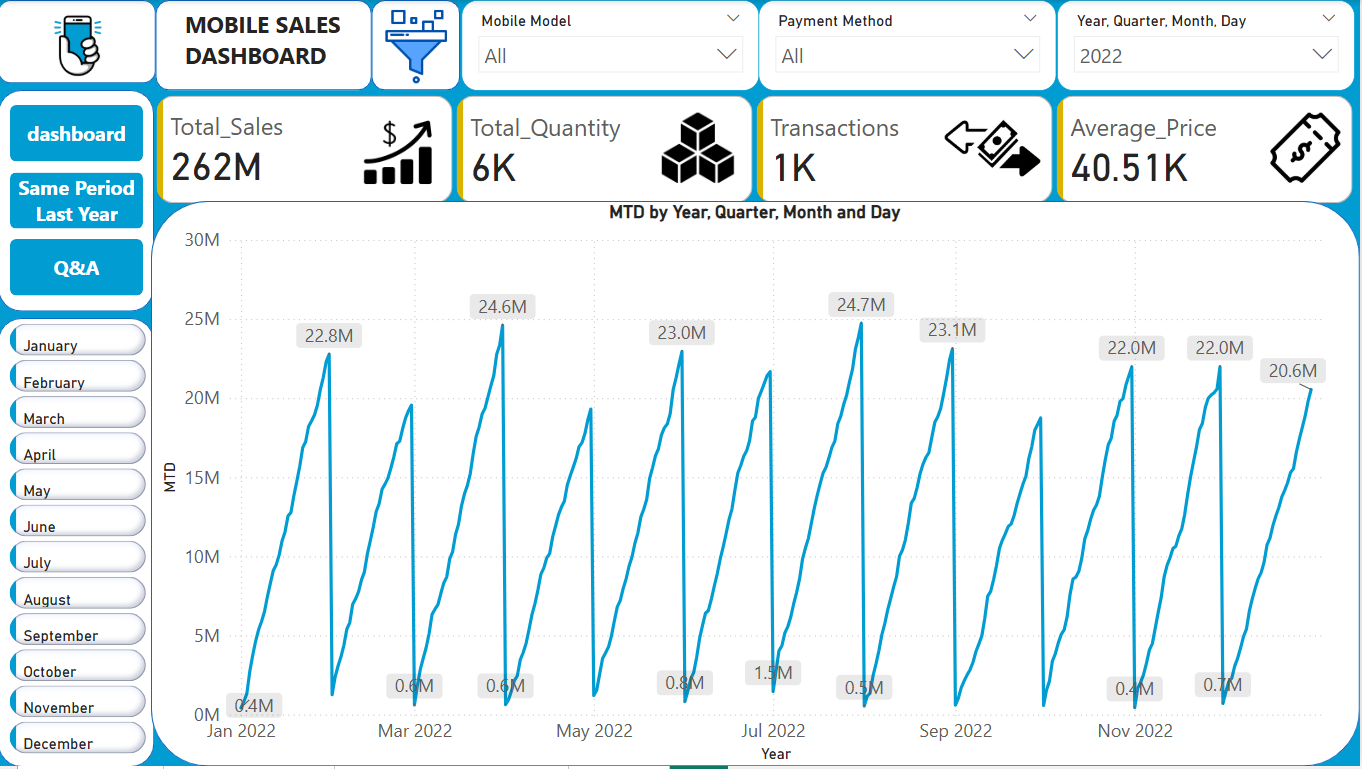

The page's visual inventory and layout, read from the dashboard file:
{"tool":"powerbi","page":{"name":"MTD REPORT","canvas":[1280,720],"ordinal":1},"visuals":[{"type":"shape","box":[0,0,148.3,78.3],"z":0},{"type":"image","box":[18.3,0,113.3,85],"z":1000},{"type":"shape","box":[0,85,146.7,208.3],"z":2000},{"type":"cardVisual","fields":{"Data":["Mobile Sales Data.Total_Sales","Mobile Sales Data.Total_Quantity","Mobile Sales Data.Transactions","Mobile Sales Data.Average_Price"]},"box":[143.3,85,1136.7,111.7],"z":3000},{"type":"slicer","fields":{"Values":["Mobile Sales Data.Mobile Model"]},"box":[435,0,280,85],"z":4000},{"type":"slicer","fields":{"Values":["Mobile Sales Data.Payment Method"]},"box":[715,0,280,85],"z":5000},{"type":"slicer","fields":{"Values":["Custum_calender.Date.Variation.Date Hierarchy.Year","Custum_calender.Date.Variation.Date Hierarchy.Quarter","Custum_calender.Date.Variation.Date Hierarchy.Month","Custum_calender.Date.Variation.Date Hierarchy.Day"]},"box":[995,0,280,85],"z":6000},{"type":"shape","box":[351.7,0,83.3,85],"z":7000},{"type":"image","box":[345,3.3,95,81.7],"z":8000},{"type":"shape","box":[148.3,0,203.3,85],"z":9000},{"type":"textbox","box":[170,3.3,163.3,76.7],"z":10000},{"type":"shape","box":[0,298.5,146.9,422],"z":11000},{"type":"advancedSlicerVisual","fields":{"Values":["Custum_calender.Date.Variation.Date Hierarchy.Month"]},"box":[5,298.3,138.3,421.7],"z":12000},{"type":"shape","box":[143.8,189.1,1136.3,531.4],"z":13000},{"type":"lineChart","fields":{"Y":["Mobile Sales Data.MTD"],"Category":["Custum_calender.Date.Variation.Date Hierarchy.Year","Custum_calender.Date.Variation.Date Hierarchy.Quarter","Custum_calender.Date.Variation.Date Hierarchy.Month","Custum_calender.Date.Variation.Date Hierarchy.Day"]},"box":[148.5,189.1,1126.9,531.4],"z":14000},{"type":"pageNavigator","box":[10.9,98.5,125,179.7],"z":15000}]}

Visuals, with their boxes in screenshot pixels (x1, y1, x2, y2), scaled from the page's 1280x720 canvas onto the 1362x769 screenshot:
shape: (0, 0, 158, 84)
image: (19, 0, 140, 91)
shape: (0, 91, 156, 313)
cardVisual - Mobile Sales Data.Total_Sales x Mobile Sales Data.Total_Quantity: (152, 91, 1361, 210)
slicer - Mobile Sales Data.Mobile Model: (463, 0, 761, 91)
slicer - Mobile Sales Data.Payment Method: (761, 0, 1059, 91)
slicer - Custum_calender.Date.Variation.Date Hierarchy.Year x Custum_calender.Date.Variation.Date Hierarchy.Quarter: (1059, 0, 1357, 91)
shape: (374, 0, 463, 91)
image: (367, 4, 468, 91)
shape: (158, 0, 374, 91)
textbox: (181, 4, 355, 85)
shape: (0, 319, 156, 768)
advancedSlicerVisual - Custum_calender.Date.Variation.Date Hierarchy.Month: (5, 319, 152, 768)
shape: (153, 202, 1361, 768)
lineChart - Mobile Sales Data.MTD x Custum_calender.Date.Variation.Date Hierarchy.Year: (158, 202, 1357, 768)
pageNavigator: (12, 105, 145, 297)
